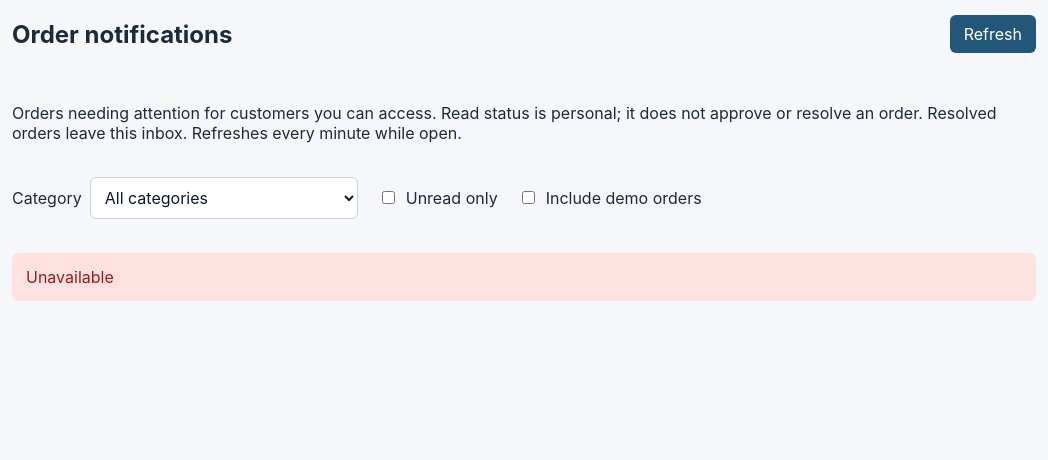
Test: reports a load failure and can retry to an empty inbox
Check: the message reads "Unavailable", box [26,267,114,287]
Click the button "Refresh".
click(993, 34)  # box [950,15,1036,53]
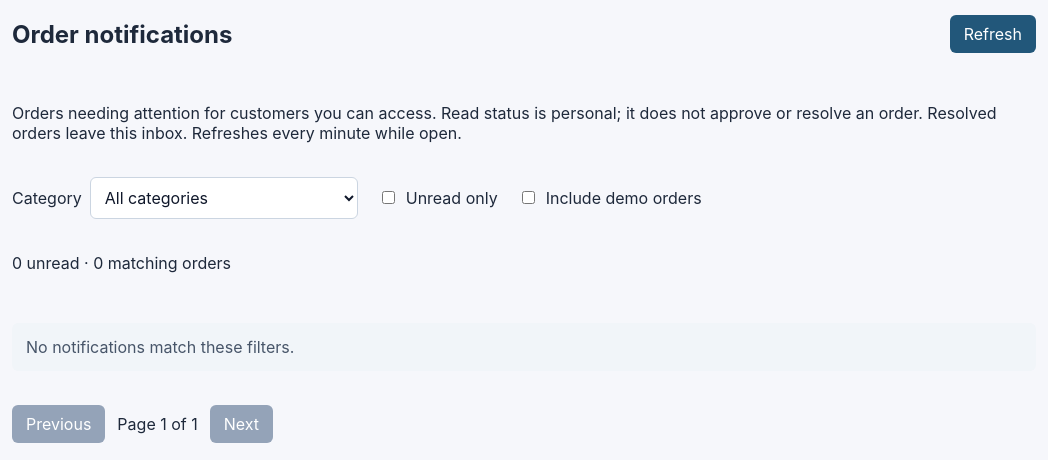
Check: the text "No notifications match these filters." is shown, box [12,323,1036,371]
